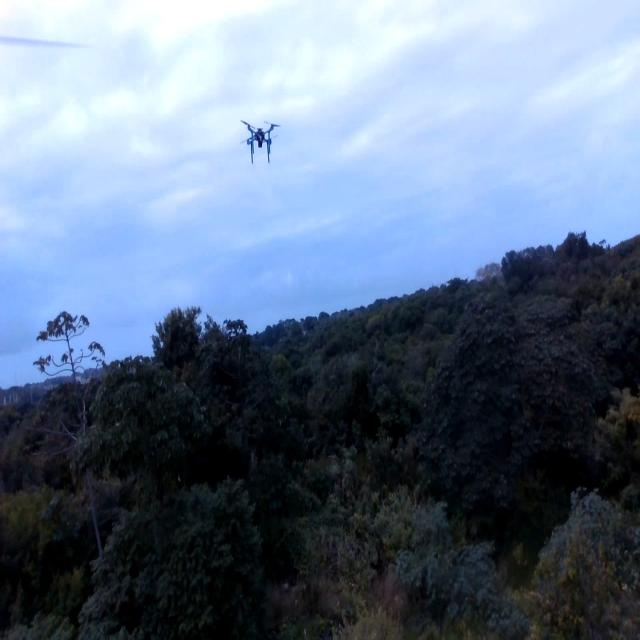-uav-: (236, 107, 284, 170)
